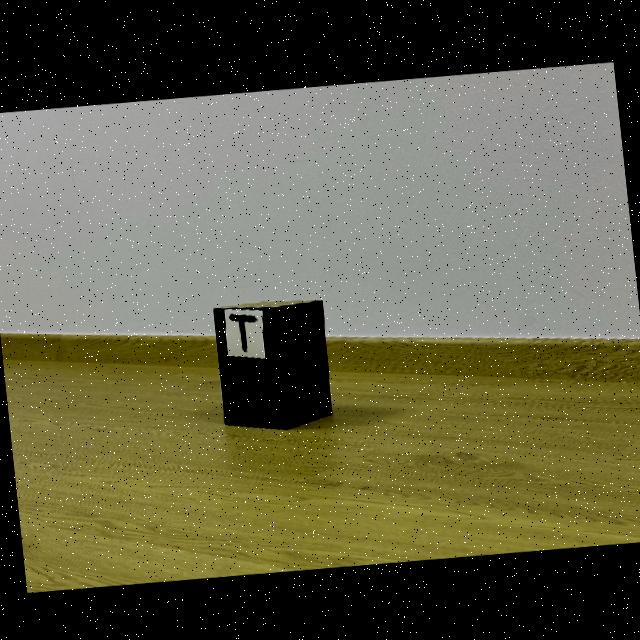T: (230, 313, 256, 349)
